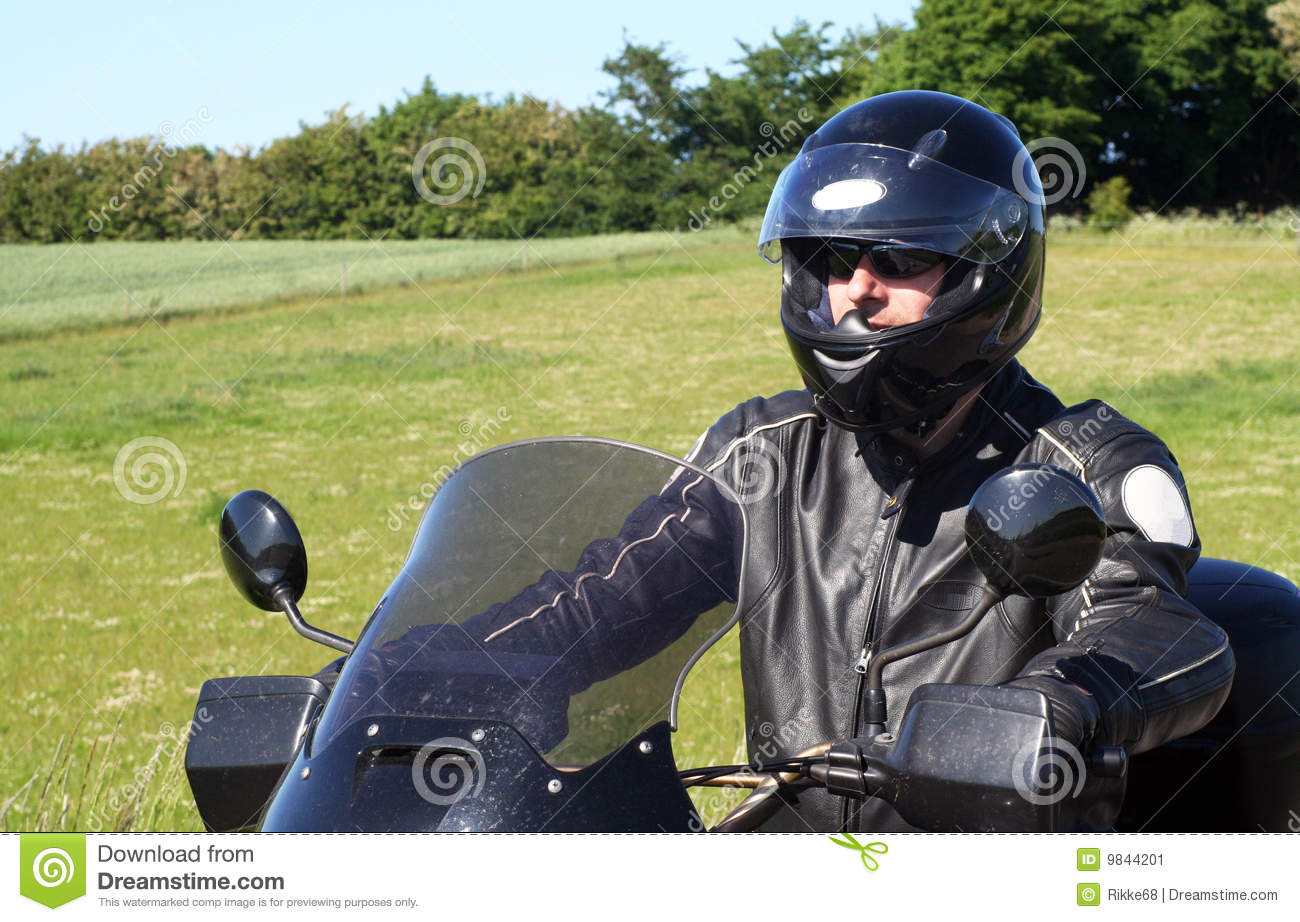helmet: (752, 95, 1053, 387)
